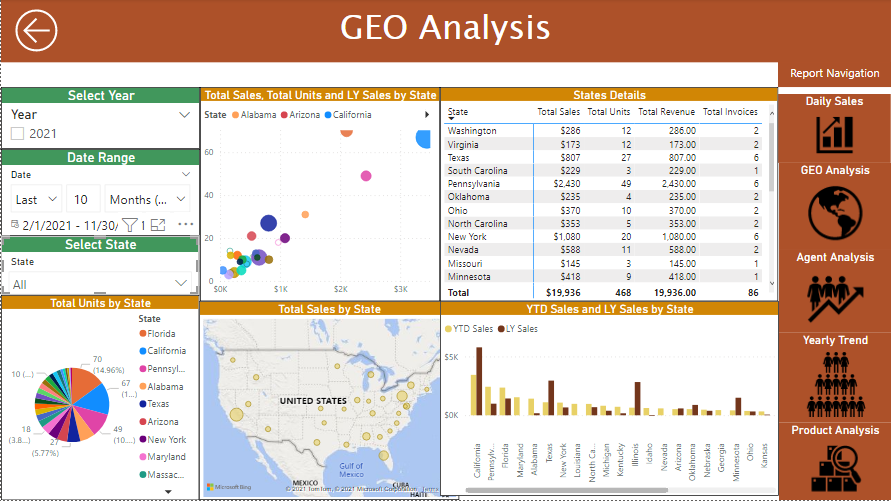

This screenshot's page, from the dashboard's own definition file:
{"tool":"powerbi","page":{"name":"GEO Analysis","canvas":[1280,720],"ordinal":1},"visuals":[{"type":"actionButton","title":"Daily Sales","box":[471.4,0,159.5,90.5],"z":0},{"type":"actionButton","title":"GEO Analysis","box":[630.9,0,159.5,90.5],"z":1000},{"type":"actionButton","title":"Agent Analysis","box":[790.4,0,150.9,90.5],"z":2000},{"type":"actionButton","title":"Yearly Trend","box":[941.3,0,175.3,90.5],"z":3000},{"type":"actionButton","title":"Product Analysis","box":[1116.6,0,162.4,90.5],"z":5000},{"type":"textbox","box":[0,0,471.4,90.5],"z":7000},{"type":"slicer","title":"Date Range","fields":{"Values":["DimDate.Date"]},"box":[0,286,286,116.4],"z":8000},{"type":"slicer","title":"Select State","fields":{"Values":["DimCustomers.State"]},"box":[0,402.4,284.6,90.5],"z":9000},{"type":"map","fields":{"Category":["DimCustomers.State"],"Size":["FactSales.Total Sales"]},"box":[674.8,286.5,603.5,184.8],"z":10000},{"type":"pieChart","title":"Units by State","fields":{"Y":["FactSales.Total Units"],"Category":["DimCustomers.State"]},"box":[0,492.9,284.6,227.1],"z":11000},{"type":"clusteredColumnChart","fields":{"Category":["DimCustomers.State"],"Y":["FactSales.YTD Sales","FactSales.LY Sales"]},"box":[658.2,471.4,620.8,248.6],"z":12000},{"type":"scatterChart","title":"Sales, Units and LY Sales by State","fields":{"X":["FactSales.Total Sales"],"Y":["FactSales.Total Units"],"Series":["DimCustomers.State"],"Size":["FactSales.LY Sales"]},"box":[283.1,471.4,375.1,248.6],"z":13000},{"type":"pivotTable","title":"States Details","fields":{"Rows":["DimCustomers.State"],"Values":["FactSales.Total Sales","FactSales.Total Units","FactSales.Total Invoices"]},"box":[286.5,286.5,388.2,184.8],"z":14000},{"type":"actionButton","box":[12.9,7.2,89.1,76.2],"z":15000},{"type":"slicer","title":"Select Year","fields":{"Values":["DimDate.Year"]},"box":[0,175.3,1279,110.7],"z":16000},{"type":"hundredPercentStackedBarChart","fields":{"Series":["DimCustomers.State"],"Y":["FactSales.Measure For Legend State"]},"box":[1.4,90.5,1279,84.8],"z":17000}]}

Visuals, with their boxes in screenshot pixels (x1, y1, x2, y2), scaled from the page's 1280x720 canvas onto the 891x501 screenshot:
"Daily Sales" actionButton: (328,0,439,63)
"GEO Analysis" actionButton: (439,0,550,63)
"Agent Analysis" actionButton: (550,0,655,63)
"Yearly Trend" actionButton: (655,0,777,63)
"Product Analysis" actionButton: (777,0,890,63)
textbox: (0,0,328,63)
"Date Range" slicer: (0,199,199,280)
"Select State" slicer: (0,280,198,343)
map - DimCustomers.State x FactSales.Total Sales: (470,199,890,328)
"Units by State" pieChart: (0,343,198,500)
clusteredColumnChart - DimCustomers.State x FactSales.YTD Sales: (458,328,890,500)
"Sales, Units and LY Sales by State" scatterChart: (197,328,458,500)
"States Details" pivotTable: (199,199,470,328)
actionButton: (9,5,71,58)
"Select Year" slicer: (0,122,890,199)
hundredPercentStackedBarChart - DimCustomers.State x FactSales.Measure For Legend State: (1,63,890,122)
